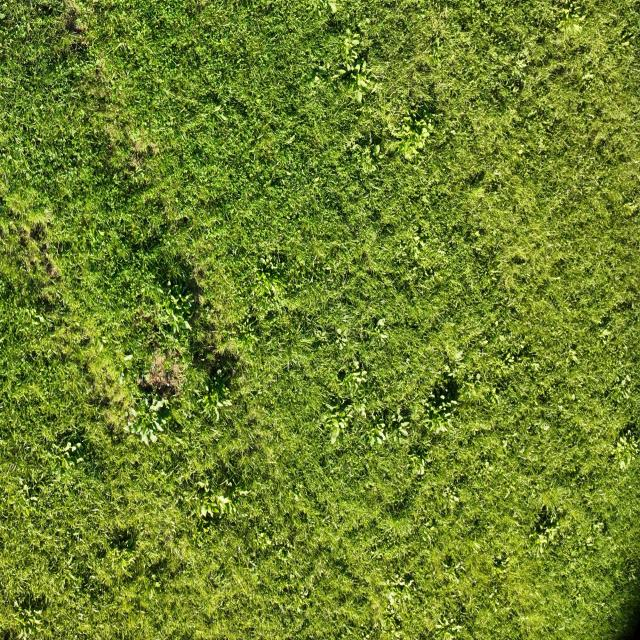rumex: (500, 179, 588, 284), (474, 320, 540, 404), (411, 1, 462, 76), (374, 564, 418, 636), (6, 299, 58, 355), (113, 120, 159, 168), (365, 397, 402, 454), (397, 110, 436, 158), (327, 366, 370, 406), (232, 313, 268, 359), (196, 482, 237, 522), (399, 226, 434, 272), (50, 434, 86, 478), (322, 400, 356, 445), (358, 312, 391, 356), (553, 2, 586, 43), (200, 379, 232, 419), (424, 394, 458, 431), (12, 602, 44, 638), (332, 319, 361, 358), (613, 430, 639, 467), (432, 610, 463, 637), (254, 272, 283, 298), (312, 1, 338, 30), (534, 524, 560, 550), (226, 95, 252, 118), (341, 35, 361, 61), (260, 255, 282, 278), (618, 23, 640, 46), (465, 168, 487, 190), (401, 136, 421, 159), (173, 314, 191, 332), (351, 369, 368, 386), (599, 326, 615, 344), (540, 491, 554, 510), (512, 248, 528, 264), (203, 392, 218, 408), (138, 427, 151, 445), (149, 398, 164, 412), (401, 118, 414, 134), (623, 200, 639, 213), (356, 76, 369, 92), (113, 41, 127, 55), (145, 429, 158, 444), (178, 215, 192, 228), (51, 469, 62, 484), (415, 462, 426, 477), (128, 407, 138, 423), (311, 75, 323, 88), (516, 58, 528, 70), (391, 127, 404, 138), (353, 60, 363, 74), (337, 368, 347, 382), (618, 456, 628, 470), (330, 431, 340, 445), (62, 441, 73, 453), (453, 350, 464, 362), (328, 1, 338, 14), (369, 434, 378, 448), (212, 104, 224, 114), (370, 82, 380, 94), (122, 422, 132, 434), (387, 592, 395, 606), (359, 59, 366, 75), (200, 504, 208, 518), (520, 48, 530, 59), (376, 317, 386, 328), (420, 194, 429, 206), (403, 150, 412, 162), (237, 489, 250, 497), (610, 13, 618, 26), (339, 68, 349, 78), (286, 134, 295, 145), (582, 72, 593, 81), (622, 388, 631, 399), (60, 458, 68, 470), (443, 4, 449, 20), (373, 144, 381, 156), (570, 353, 579, 363), (123, 353, 134, 361), (149, 584, 154, 601), (119, 372, 125, 386), (37, 315, 46, 324), (338, 341, 346, 351), (621, 378, 629, 388), (517, 146, 525, 156), (261, 256, 269, 266), (346, 62, 354, 72), (98, 341, 104, 354), (144, 373, 151, 384), (216, 368, 223, 379), (345, 27, 352, 38), (325, 266, 333, 275), (314, 329, 322, 338), (475, 372, 482, 382), (336, 326, 343, 336), (493, 170, 501, 178), (512, 86, 520, 94), (449, 128, 457, 136), (70, 445, 77, 453), (18, 477, 24, 486), (204, 384, 210, 393), (13, 600, 19, 608), (440, 394, 446, 401), (125, 69, 130, 77), (166, 280, 172, 286)
